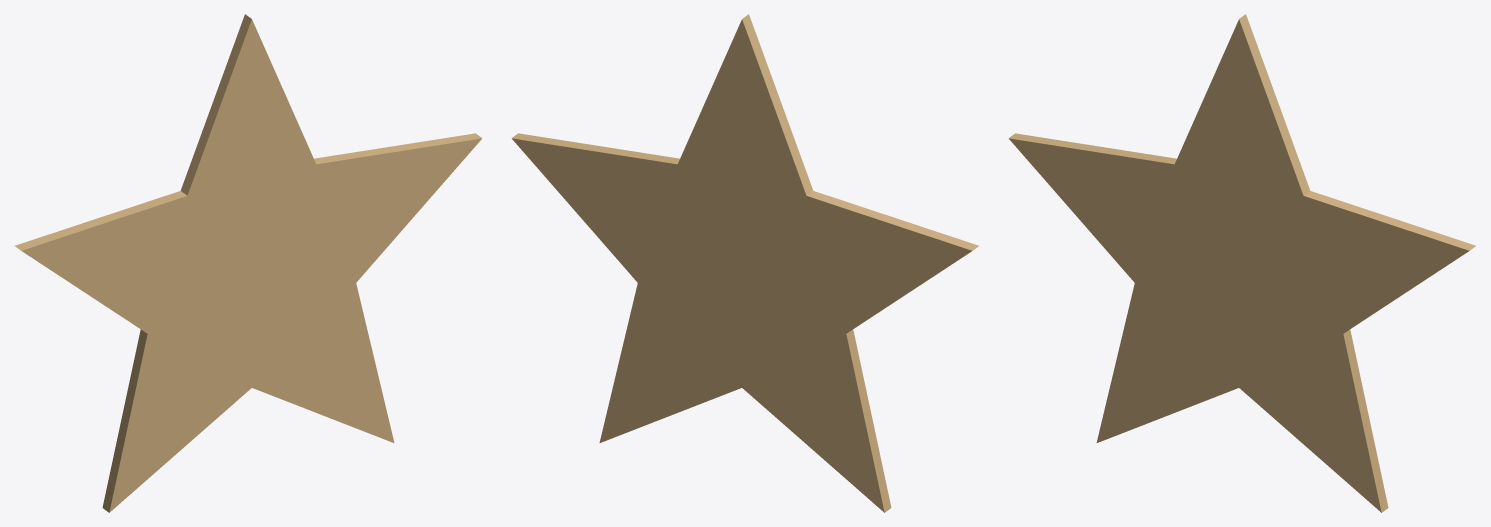
The model's file is tähti_oveen.fbx.
3 views of the same model, side by side, from view 1: azimuth 30°, elevation 25°; view 2: azimuth 150°, elevation 25°; view 3: azimuth 330°, elevation 25° (orthographic).
Visible parts, largest first — view 1: tähti_oveen; view 2: tähti_oveen; view 3: tähti_oveen.
Part boxes in pixels (bbox=[...]): tähti_oveen: bbox=[15, 14, 482, 512]; tähti_oveen: bbox=[511, 14, 978, 512]; tähti_oveen: bbox=[1008, 14, 1475, 512].
Bounding box in the file's own units: 91.34 × 86.89 × 2.35.
